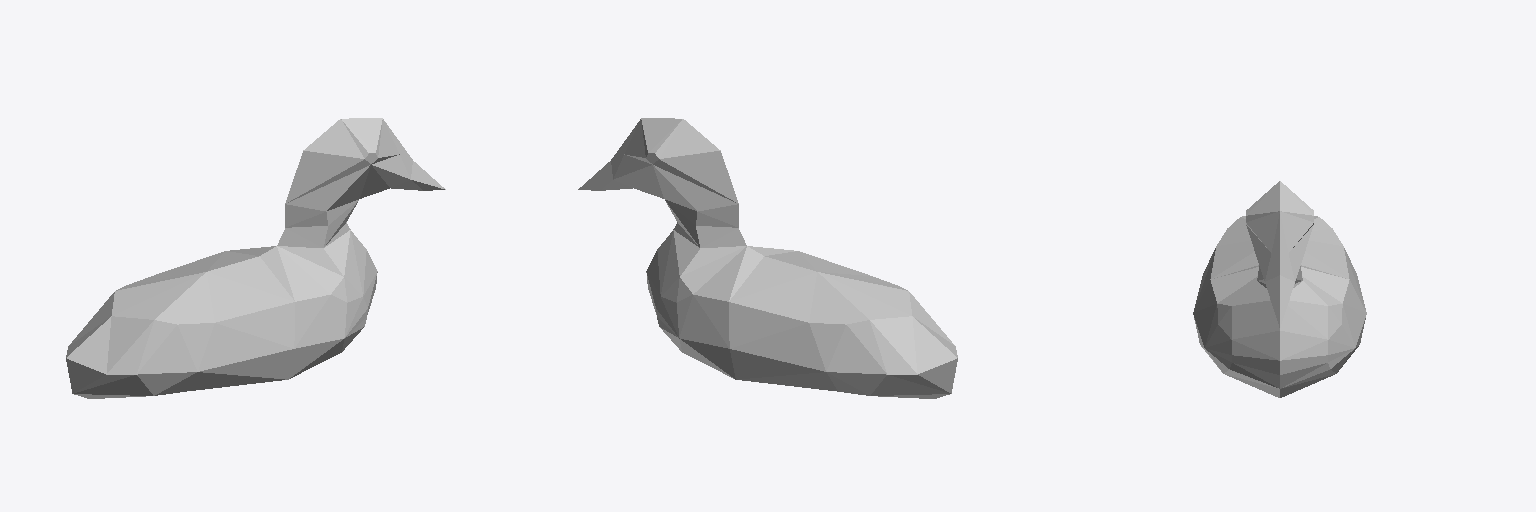
Rendered from duckling.obj.
3 views of the same model, side by side, from view 1: azimuth 30°, elevation 25°; view 2: azimuth 150°, elevation 25°; view 3: azimuth 270°, elevation 25° (orthographic).
Visible parts, largest first — view 1: Cube_Cube.001; view 2: Cube_Cube.001; view 3: Cube_Cube.001.
Part boxes in pixels (bbox=[...]): Cube_Cube.001: bbox=[66, 118, 445, 398]; Cube_Cube.001: bbox=[578, 118, 957, 398]; Cube_Cube.001: bbox=[1193, 181, 1366, 397].
Bounding box in the file's own units: 0.9422 × 0.5527 × 0.3729.